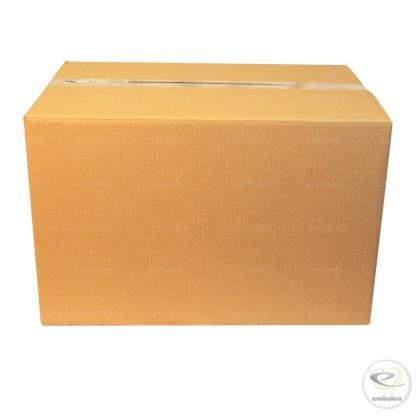box: (22, 59, 394, 326)
